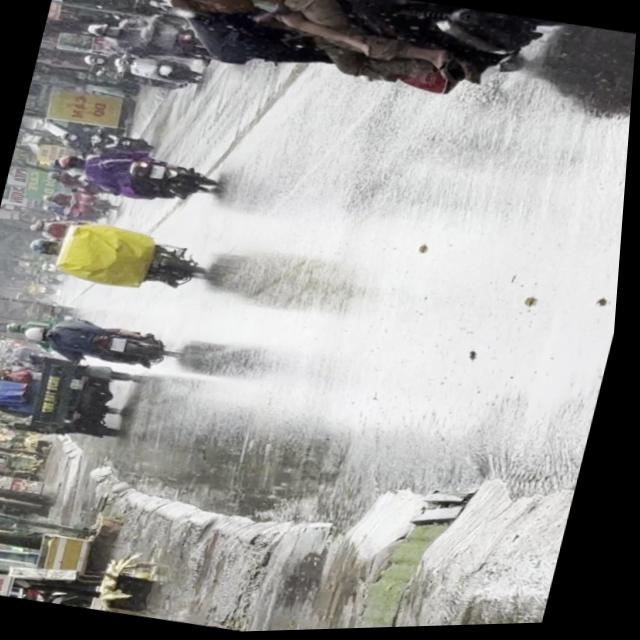helmet: (29, 233, 64, 257), (84, 17, 121, 39), (58, 151, 87, 169), (27, 323, 54, 342)
licenseplate: (58, 0, 584, 129), (21, 206, 229, 306), (47, 136, 225, 213), (20, 305, 192, 380)
nohelmet: (115, 337, 132, 351), (151, 164, 167, 178)
